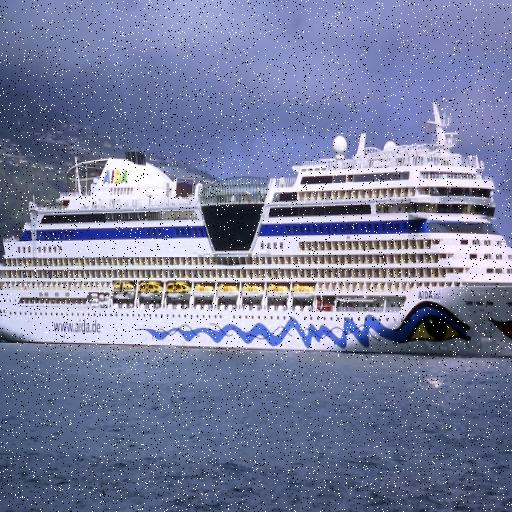cruises: (1, 125, 512, 368)
